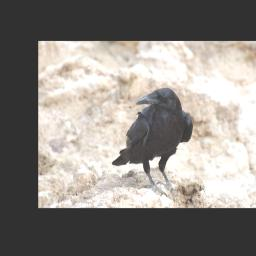Crow: (112, 87, 193, 195)
